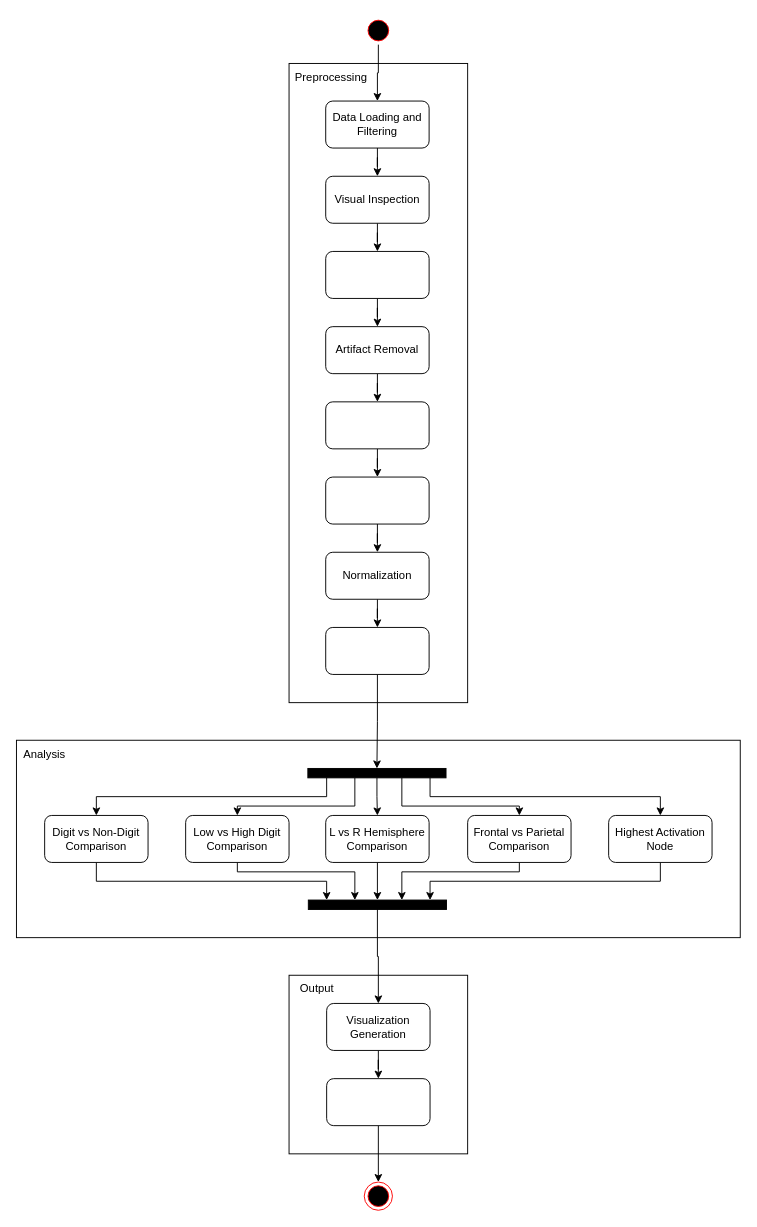
This 757x1227 diagram has some shape labels left out. Here are the shapes that lost their labels. From the top down, the box of each, then its label:
(325, 251, 429, 298): Bandpass Filter
(325, 401, 429, 449): De-Noising
(325, 476, 429, 524): Feature Extraction
(325, 627, 429, 674): Dimensionality Reduction
(326, 1078, 430, 1126): Report Creation
